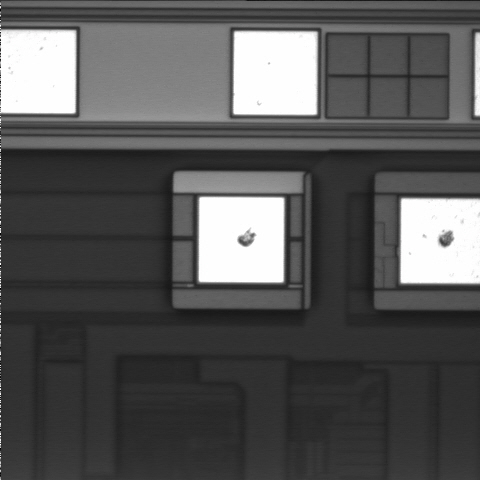pad: (199, 197, 284, 282), (233, 31, 317, 115)
